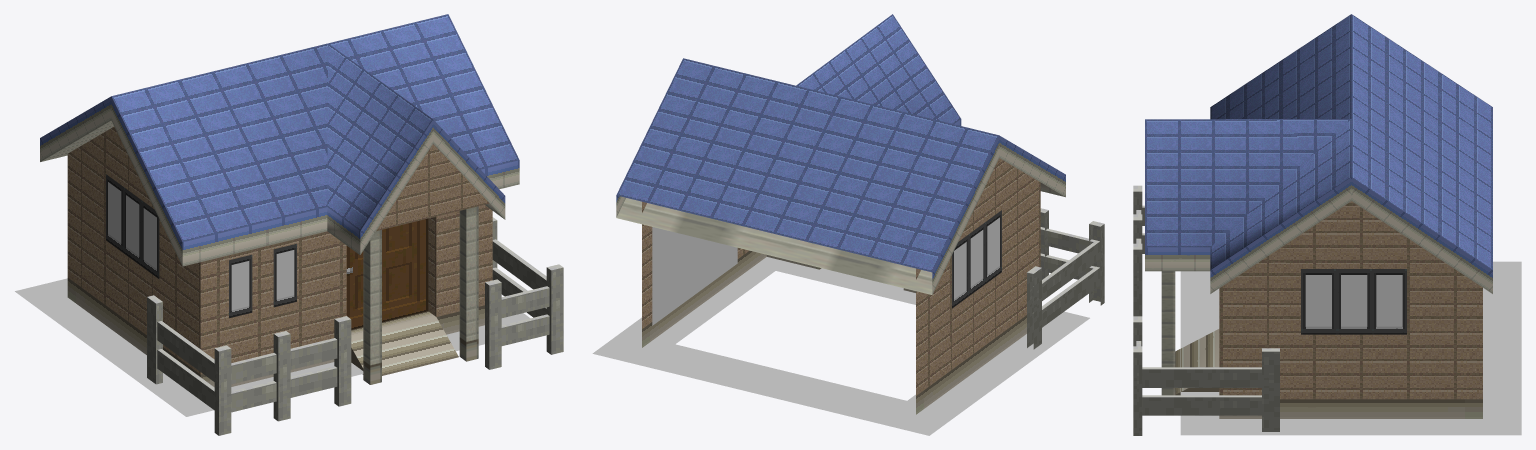
The model's file is BasicHouse2.fbx.
The picture shows the model from 3 angles, left to right: view 1: azimuth 30°, elevation 25°; view 2: azimuth 150°, elevation 25°; view 3: azimuth 270°, elevation 25°; orthographic projection. The views are drawn at different scales.
Visible parts, largest first — view 1: polygon4.052, polygon8.034, polygon9.028, polygon7.035, polygon5.047, polygon2.099, polygon6.039, polygon0.129, polygon1.126, polygon3.061; view 2: polygon4.052, polygon2.099, polygon8.034, polygon6.039, polygon1.126, polygon9.028, polygon5.047, polygon7.035, polygon3.061; view 3: polygon4.052, polygon8.034, polygon2.099, polygon9.028, polygon7.035, polygon5.047, polygon1.126, polygon3.061, polygon6.039.
Boxes of the visible parts, x1,y1,x2,y2 form: polygon4.052: (111,14,519,242); polygon8.034: (67,126,492,374); polygon9.028: (147,217,563,435); polygon7.035: (40,96,519,266); polygon5.047: (67,278,484,387); polygon2.099: (15,278,530,416); polygon6.039: (41,120,478,384); polygon0.129: (346,218,428,329); polygon1.126: (108,143,444,310); polygon3.061: (106,174,296,318); polygon4.052: (616,14,998,272); polygon2.099: (592,257,1089,435); polygon8.034: (642,158,1040,395); polygon6.039: (616,198,932,294); polygon1.126: (652,217,999,325); polygon9.028: (1027,208,1104,349); polygon5.047: (642,250,1026,414); polygon7.035: (616,119,1065,294); polygon3.061: (952,210,1001,308); polygon4.052: (1145,14,1492,269); polygon8.034: (1219,201,1482,399); polygon2.099: (1180,261,1521,435); polygon9.028: (1133,185,1279,435); polygon7.035: (1145,177,1492,293); polygon5.047: (1175,329,1482,418); polygon1.126: (1305,275,1402,326); polygon3.061: (1301,269,1406,334); polygon6.039: (1161,271,1175,395).
Size of the model in its own units: 1600 by 1100 by 1509.
